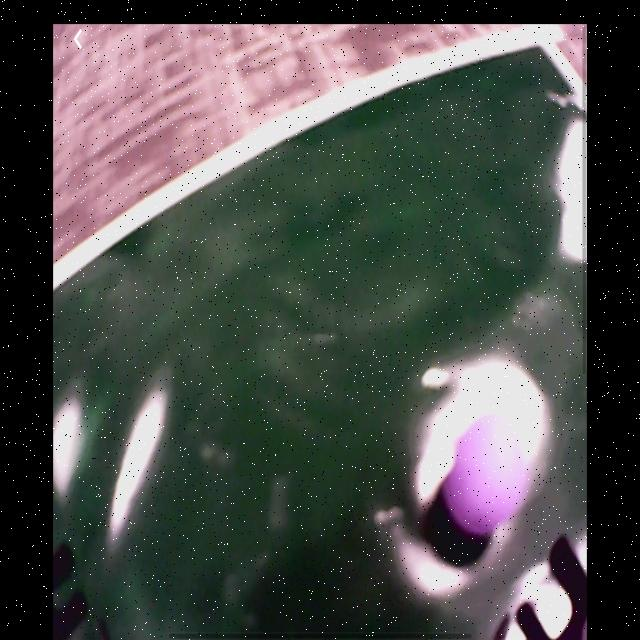ball: (446, 411, 526, 542)
